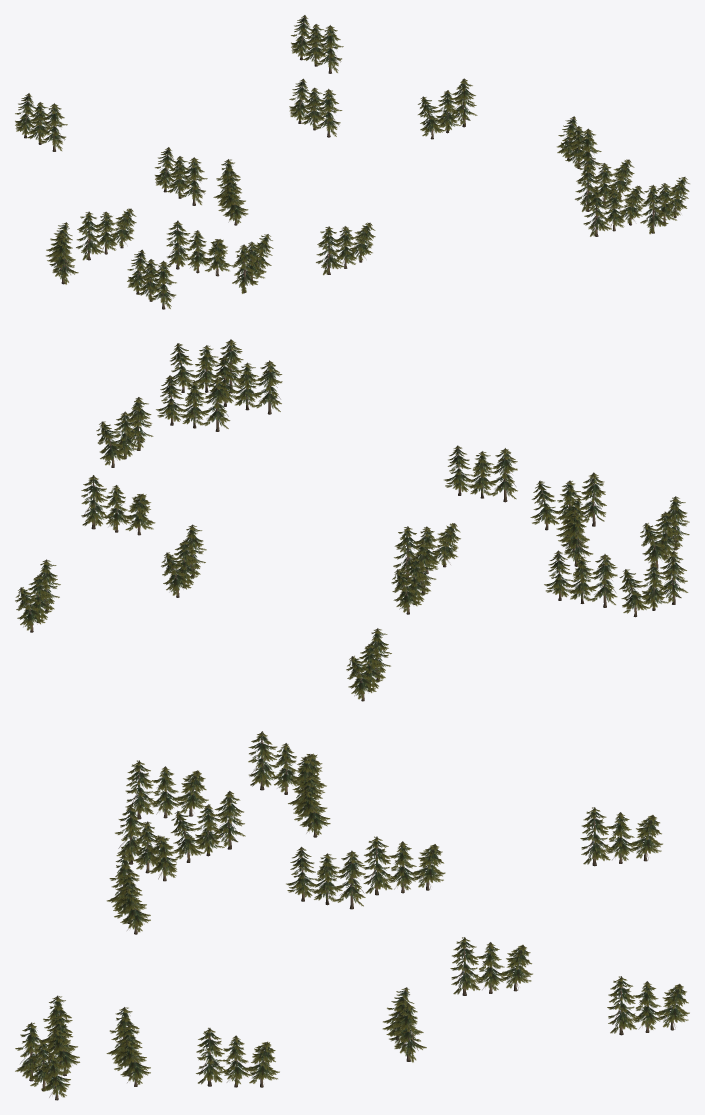
File: Final_Trees.glb
The picture shows the model from 3 angles, top to bottom: view 1: azimuth 30°, elevation 25°; view 2: azimuth 150°, elevation 25°; view 3: azimuth 270°, elevation 25°; orthographic projection. The views are drawn at different scales.
Visible parts, largest first — view 1: Object_8.006; view 2: Object_8.006; view 3: Object_8.006.
Boxes of the visible parts, x1,y1,x2,y2 form: Object_8.006: [15, 15, 689, 309]; Object_8.006: [15, 339, 689, 701]; Object_8.006: [15, 731, 689, 1100].
Size of the model in its own units: 405 by 34.23 by 357.
Materials: 10 (10 with a texture image).
